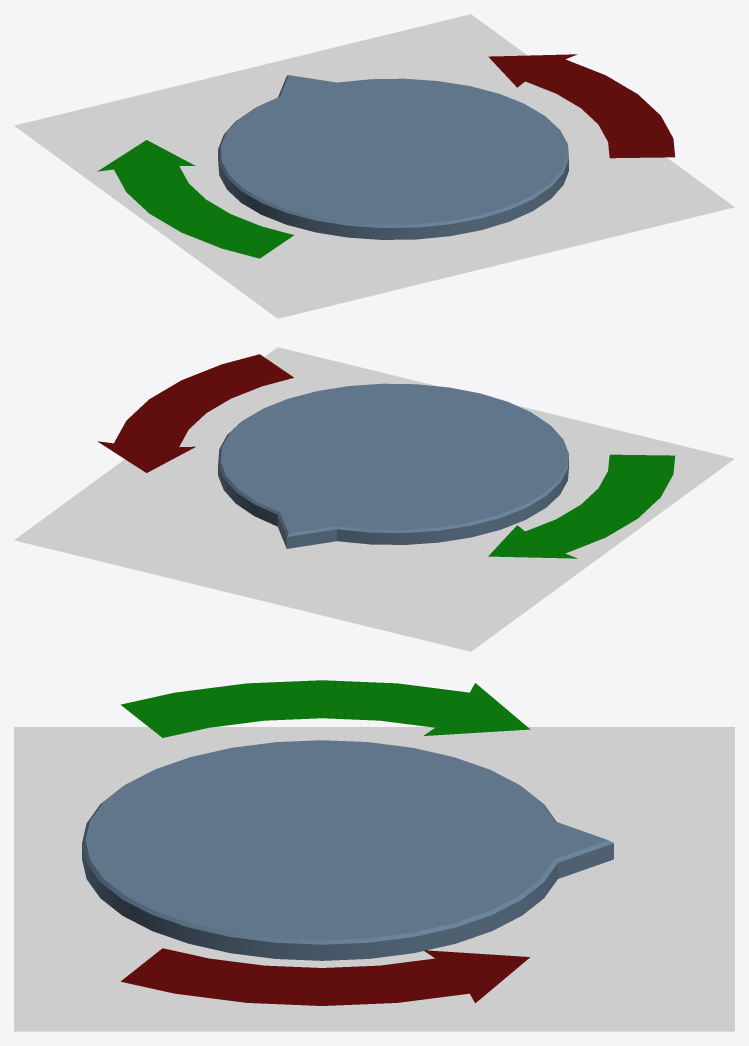
Rendered from puck.fbx.
The picture shows the model from 3 angles, top to bottom: view 1: azimuth 30°, elevation 25°; view 2: azimuth 150°, elevation 25°; view 3: azimuth 270°, elevation 25°; orthographic projection. The views are drawn at different scales.
Visible parts, largest first — view 1: puckDropShadow, puck, rotationArrows; view 2: puckDropShadow, puck, rotationArrows; view 3: puckDropShadow, puck, rotationArrows.
Part boxes in pixels (x1,y1,x2,y2): puckDropShadow: (14, 14, 734, 318); puck: (218, 75, 568, 239); rotationArrows: (97, 54, 675, 258); puckDropShadow: (14, 347, 734, 651); puck: (218, 383, 568, 548); rotationArrows: (97, 354, 675, 558); puckDropShadow: (14, 727, 734, 1031); puck: (82, 740, 613, 960); rotationArrows: (121, 680, 530, 1005).
Size of the model in its own units: 0.2673 by 0.015 by 0.25.
